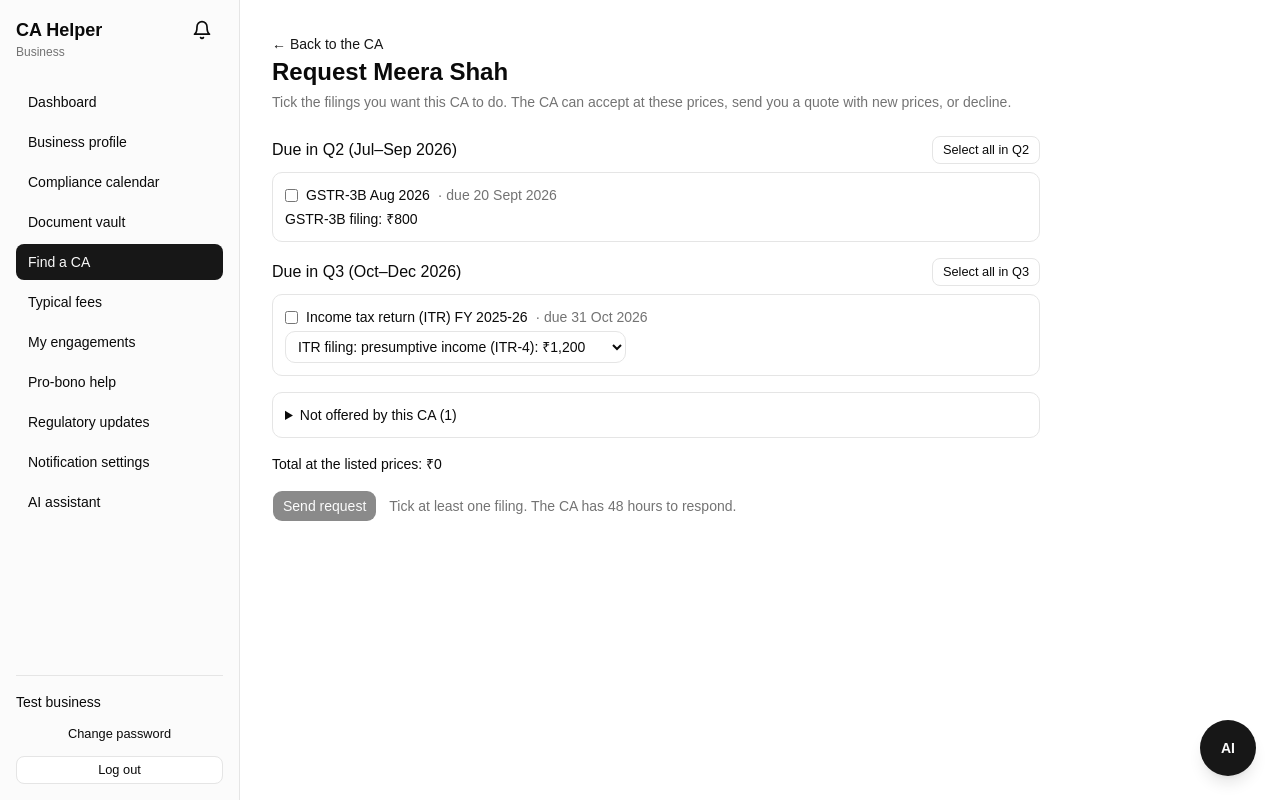
Test: Request this CA page › keeps Send disabled until a filing is ticked, and says why
Expected: the button "Send request" is disabled, left=272, top=490, right=377, bottom=522
Expected: the text "Tick at least one filing. The CA has 48 hours to respond." is shown, left=389, top=496, right=736, bottom=516
Click the checkbox labelled "GSTR-3B Aug 2026 · due 20 Sept 2026" at (292, 195), box left=285, top=188, right=298, bottom=202
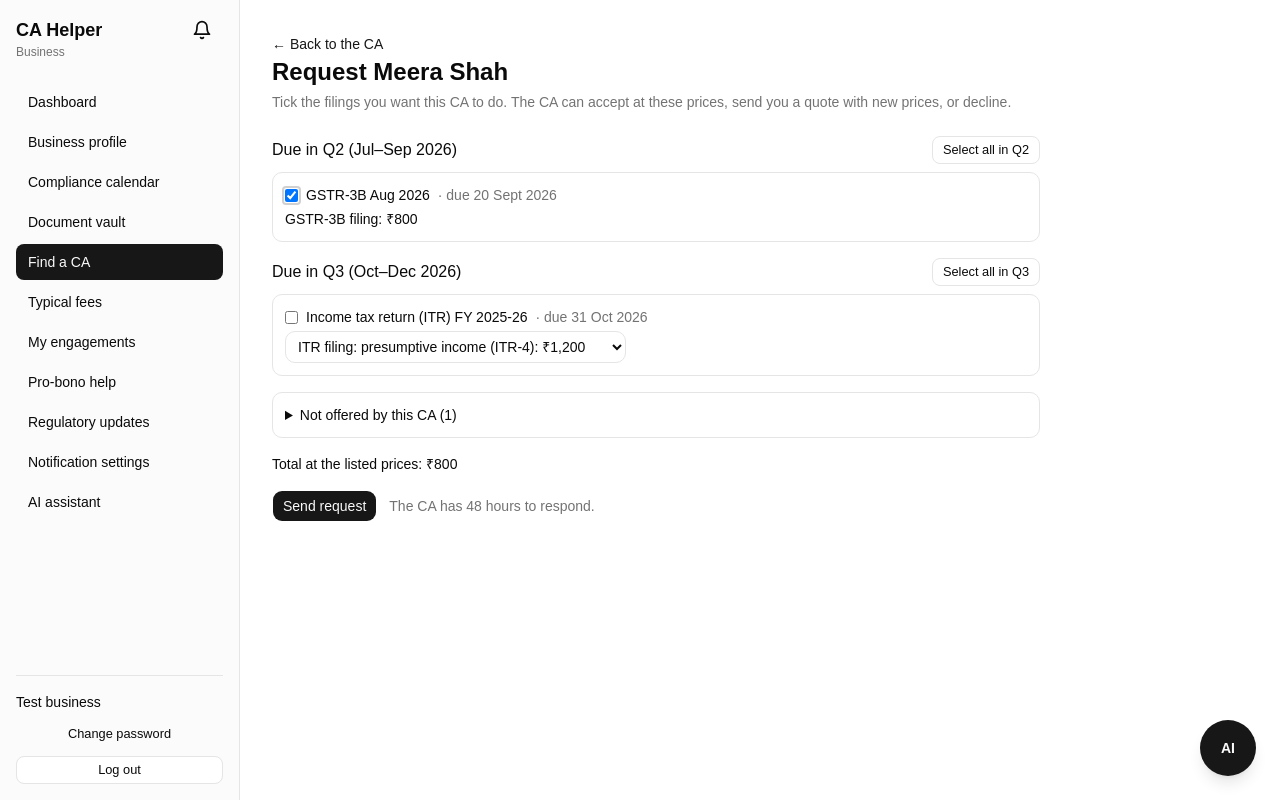
Expected: the button "Send request" is enabled, left=272, top=490, right=377, bottom=522
Expected: the text "Tick at least one filing" is gone
